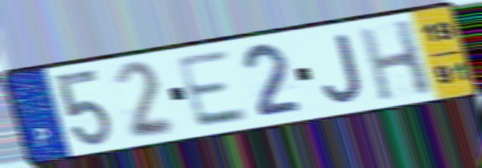2: (111, 59, 179, 143), (239, 40, 309, 121)
5: (50, 68, 115, 149)
E: (173, 48, 253, 131)
H: (355, 17, 437, 104)
J: (319, 30, 367, 105)
